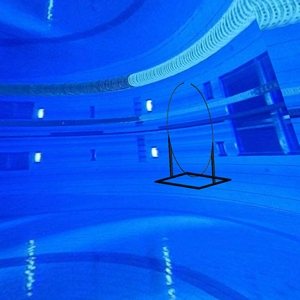circle: (155, 81, 232, 193)
